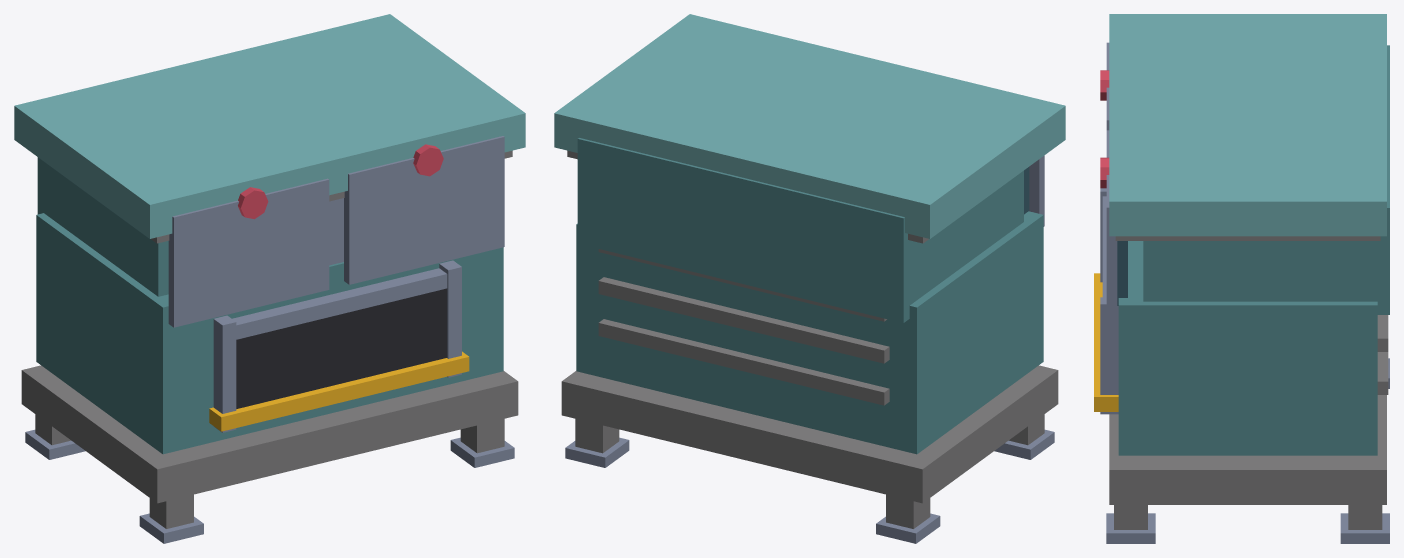
The model's file is incubator_double.glb.
The picture shows the model from 3 angles, left to right: view 1: azimuth 30°, elevation 25°; view 2: azimuth 150°, elevation 25°; view 3: azimuth 270°, elevation 25°; orthographic projection. The views are drawn at different scales.
Visible parts, largest first — view 1: incubator_double; view 2: incubator_double; view 3: incubator_double.
Part boxes in pixels (x1,y1,x2,y2): incubator_double: [14, 14, 525, 543]; incubator_double: [554, 14, 1065, 543]; incubator_double: [1094, 14, 1389, 543].
Bounding box in the file's own units: 1.5 × 1.3 × 1.
